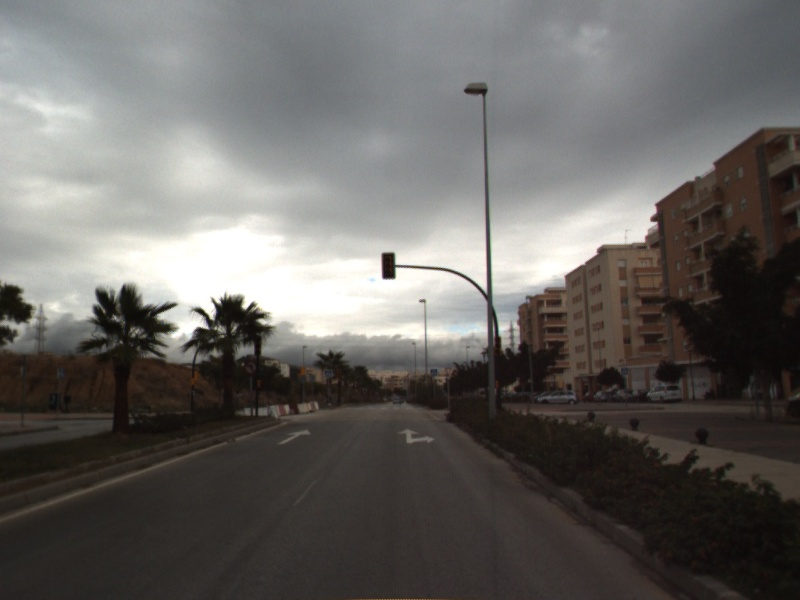STRAIGHT: (276, 427, 313, 446)
STRAIGHT_RIGHT: (395, 426, 437, 445)
